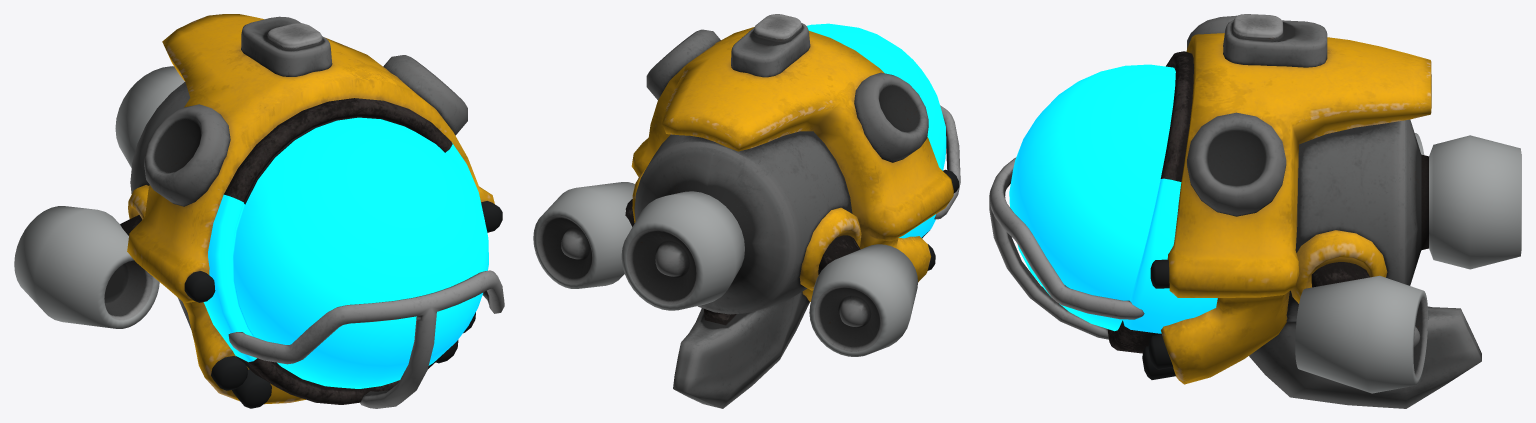
The model's file is GameJamPlayerSub.fbx.
3 renders of one model, left to right at view 1: azimuth 30°, elevation 25°; view 2: azimuth 150°, elevation 25°; view 3: azimuth 270°, elevation 25°, orthographic. The views are drawn at different scales.
Parts seen in each view (by area): view 1: Sub, Sub.001; view 2: Sub, Sub.001; view 3: Sub, Sub.001.
Part boxes in pixels (x1,y1,x2,y2): Sub: (14,14,504,408); Sub.001: (203,117,488,388); Sub: (533,14,960,408); Sub.001: (807,23,946,238); Sub: (989,14,1521,408); Sub.001: (1009,64,1217,333).
Bounding box in the file's own units: 353 × 315 × 398.
2 materials, 1 textured.
